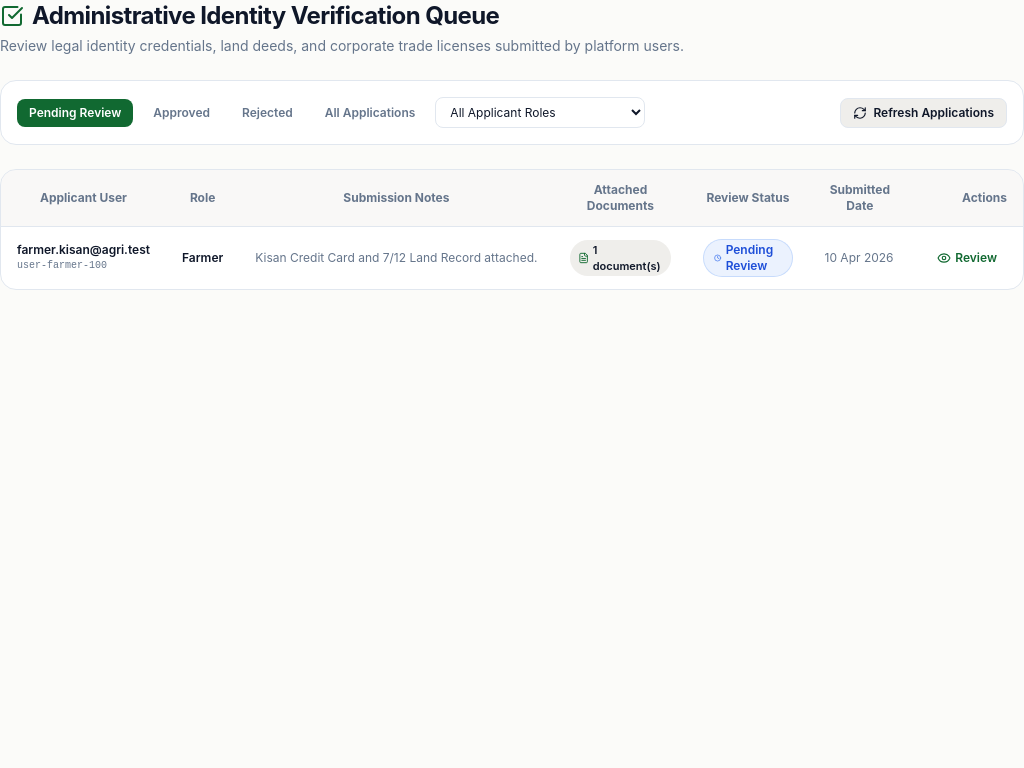
Test: AdminVerificationQueuePage › opens review modal and downloads evidence document
The image size is (1024, 768).
Later steps or results of the test are not shown.
Click the button with aria-label "review verification application": (967, 258) [927,246,1007,270]
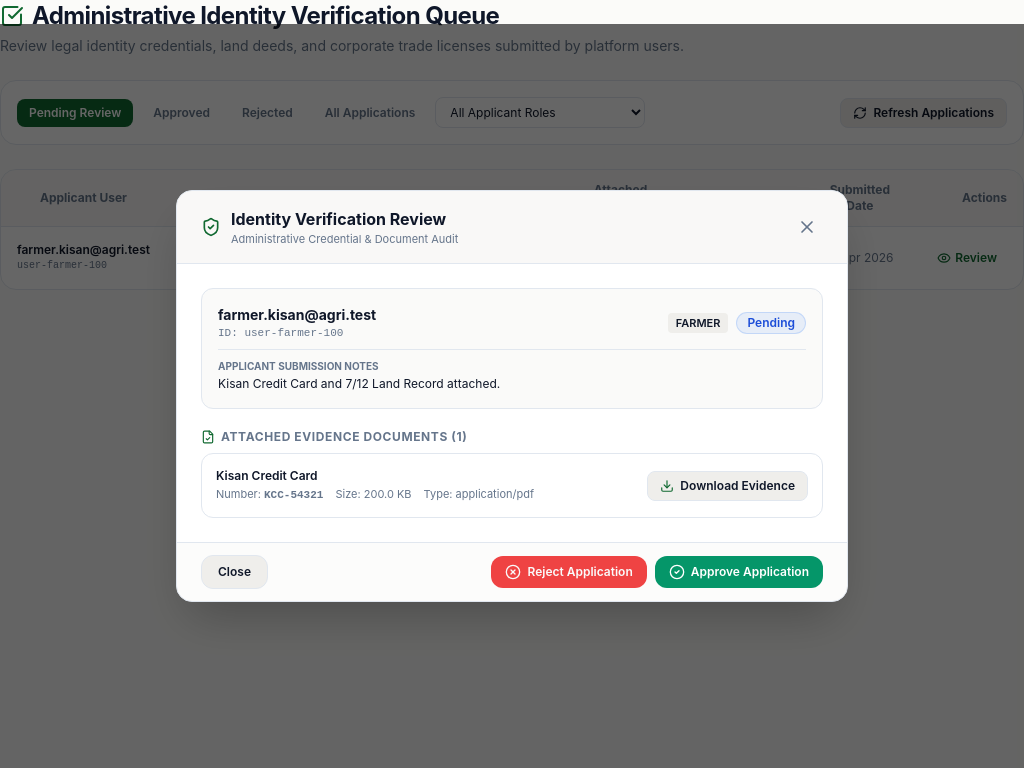
expect the heading "Identity Verification Review" is shown: met, box [231,207,458,231]
expect the text "kisan credit card" is shown: met, box [216,468,318,483]
